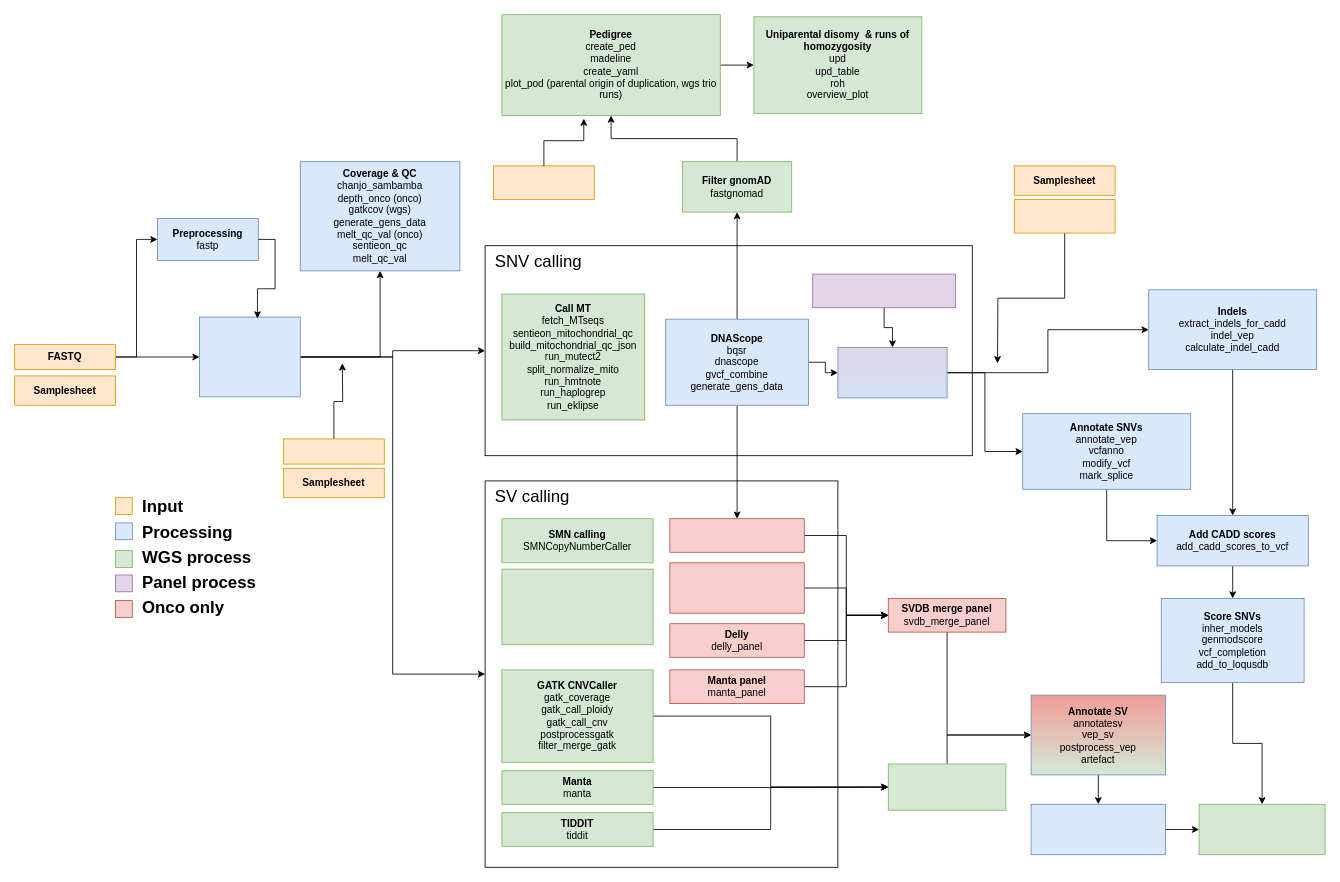
The diagram is 1340 pixels wide and 882 high, and some of its shapes have lost their labels. Each missing label, with the centre of its shape:
"Align bwa_align_sharded bwa_merge_shards bwa_align markdup" belongs at (249,356).
"BAM + BAI" belongs at (333,451).
"Call repeats expansionhunter stranger reviewer vcfbreakmulti_expansionhunter" belongs at (577,606).
"CNVKit panel cnvkit_panel" belongs at (736,535).
"Mobile elements melt intersect_melt" belongs at (736,587).
"PED" belongs at (543,182).
"Post process SNV split_normalize" belongs at (892,372).
"Score SV prescore score_sv svvcf_to_bed" belongs at (1098,829).
"Score trio compounds compound_finder" belongs at (1261,829).
"SNV call freebayes" belongs at (884,290).
"SVDB merge svdb_merge" belongs at (946,786).
"VCF + TBI" belongs at (1064,216).
